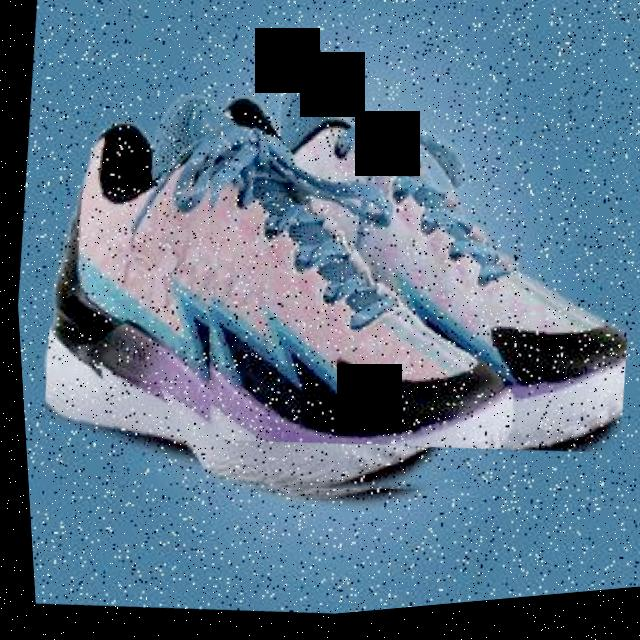shoe: (14, 60, 528, 543), (163, 51, 640, 494)
